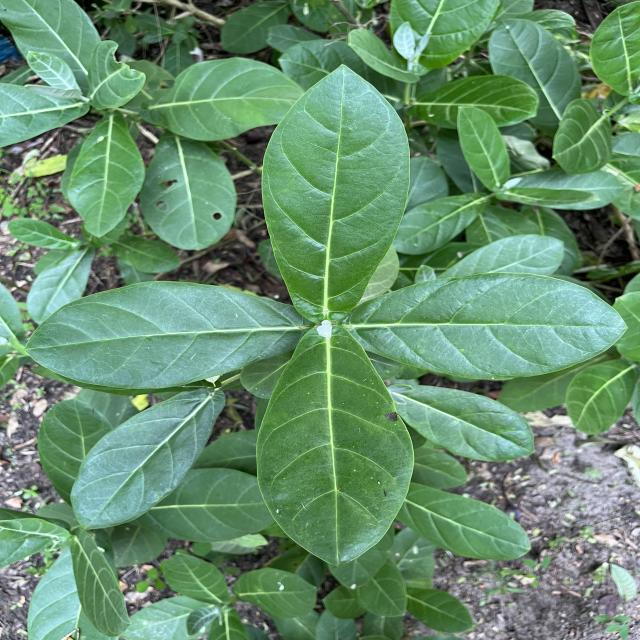Calotropis gigantea: (256, 62, 416, 324), (252, 322, 418, 570), (21, 278, 318, 390), (346, 270, 631, 382), (68, 388, 228, 532), (144, 56, 298, 142), (140, 133, 238, 251), (391, 384, 536, 463), (402, 482, 532, 562), (488, 17, 582, 125), (68, 110, 146, 240), (411, 75, 540, 130), (394, 192, 493, 256), (454, 104, 512, 190), (550, 98, 612, 176)
